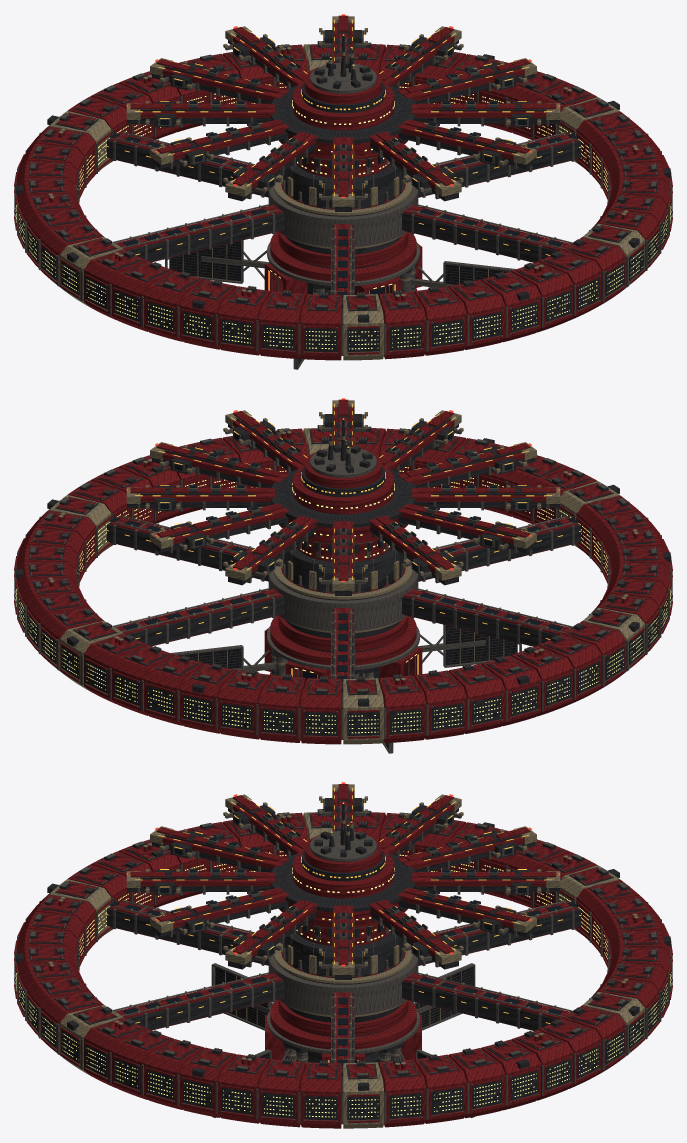
Rendered from cinder_red_corsair.glb.
3 views of the same model, one above another, from view 1: azimuth 30°, elevation 25°; view 2: azimuth 150°, elevation 25°; view 3: azimuth 270°, elevation 25° (orthographic).
Parts seen in each view (by area): view 1: Habitat_Ceramic_Ivory, Habitat_Frame_Gunmetal, Hub_Ceramic_Ivory, Hub_Frame_Gunmetal, Detail_rotor_Titanium_Edges, Habitat_Titanium_Edges, Hub_Titanium_Edges, Hub_Industrial_Orange, Detail_rotor_Ceramic_Ivory, Habitat_Industrial_Orange, Detail_rotor_Frame_Gunmetal, Habitat_Recess_Black (+8 smaller); view 2: Habitat_Ceramic_Ivory, Habitat_Frame_Gunmetal, Hub_Ceramic_Ivory, Hub_Frame_Gunmetal, Detail_rotor_Titanium_Edges, Habitat_Titanium_Edges, Hub_Titanium_Edges, Hub_Industrial_Orange, Detail_rotor_Ceramic_Ivory, Habitat_Industrial_Orange, Detail_rotor_Frame_Gunmetal, Habitat_Recess_Black (+8 smaller); view 3: Habitat_Ceramic_Ivory, Habitat_Frame_Gunmetal, Hub_Ceramic_Ivory, Hub_Frame_Gunmetal, Detail_rotor_Titanium_Edges, Habitat_Titanium_Edges, Hub_Titanium_Edges, Hub_Industrial_Orange, Detail_rotor_Ceramic_Ivory, Habitat_Industrial_Orange, Detail_rotor_Frame_Gunmetal, Habitat_Recess_Black (+7 smaller).
Part boxes in pixels (x1,y1,x2,y2): Habitat_Ceramic_Ivory: (16, 44, 670, 360); Habitat_Frame_Gunmetal: (15, 41, 671, 351); Hub_Ceramic_Ivory: (130, 15, 556, 296); Hub_Frame_Gunmetal: (127, 22, 559, 294); Detail_rotor_Titanium_Edges: (14, 42, 672, 355); Habitat_Titanium_Edges: (15, 44, 671, 353); Hub_Titanium_Edges: (137, 29, 549, 369); Hub_Industrial_Orange: (126, 16, 560, 360); Detail_rotor_Ceramic_Ivory: (14, 49, 672, 354); Habitat_Industrial_Orange: (43, 44, 644, 360); Detail_rotor_Frame_Gunmetal: (29, 42, 657, 309); Habitat_Recess_Black: (32, 45, 654, 308); Habitat_Ceramic_Ivory: (16, 428, 670, 744); Habitat_Frame_Gunmetal: (15, 425, 671, 735); Hub_Ceramic_Ivory: (130, 399, 556, 678); Hub_Frame_Gunmetal: (127, 406, 559, 680); Detail_rotor_Titanium_Edges: (14, 426, 672, 739); Habitat_Titanium_Edges: (15, 428, 671, 737); Hub_Titanium_Edges: (137, 413, 549, 753); Hub_Industrial_Orange: (126, 400, 560, 744); Detail_rotor_Ceramic_Ivory: (14, 433, 672, 738); Habitat_Industrial_Orange: (43, 428, 644, 744); Detail_rotor_Frame_Gunmetal: (29, 426, 657, 693); Habitat_Recess_Black: (32, 429, 654, 692); Habitat_Ceramic_Ivory: (16, 812, 670, 1128); Habitat_Frame_Gunmetal: (15, 809, 671, 1120); Hub_Ceramic_Ivory: (130, 784, 556, 1060); Hub_Frame_Gunmetal: (127, 789, 559, 1064); Detail_rotor_Titanium_Edges: (14, 810, 672, 1124); Habitat_Titanium_Edges: (15, 813, 671, 1121); Hub_Titanium_Edges: (137, 797, 549, 1117); Hub_Industrial_Orange: (126, 784, 560, 1060); Detail_rotor_Ceramic_Ivory: (14, 817, 672, 1122); Habitat_Industrial_Orange: (42, 812, 644, 1128); Detail_rotor_Frame_Gunmetal: (29, 811, 657, 1077); Habitat_Recess_Black: (32, 814, 654, 1076).
Bounding box in the file's own units: 2015 × 951 × 2015.
9 materials, 5 textured.
